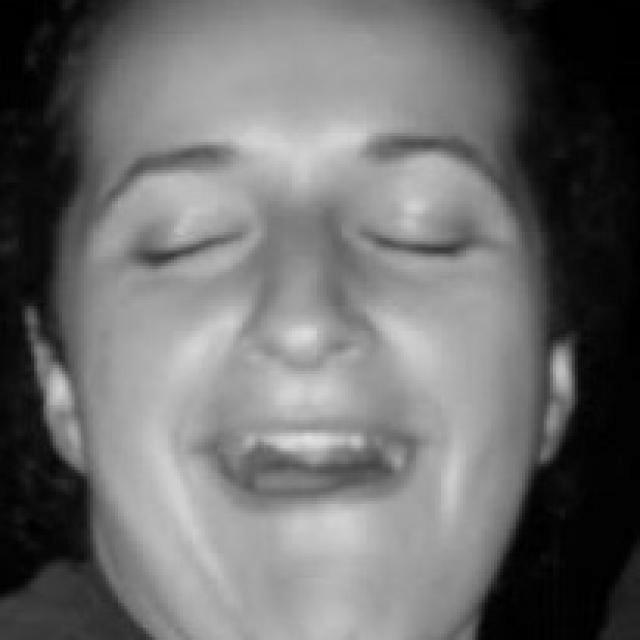real: (104, 16, 582, 629), (120, 186, 500, 296)
